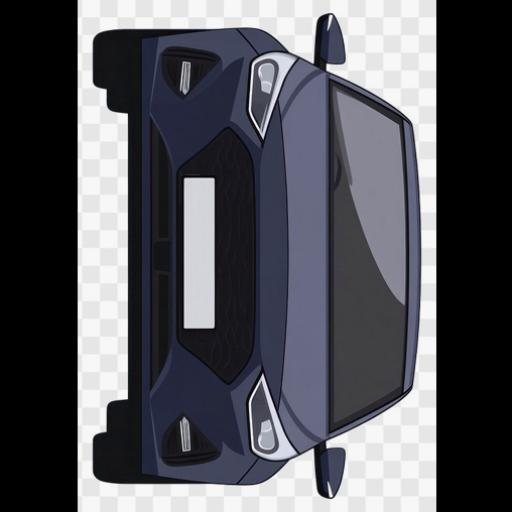hatchback: (95, 14, 418, 498)
